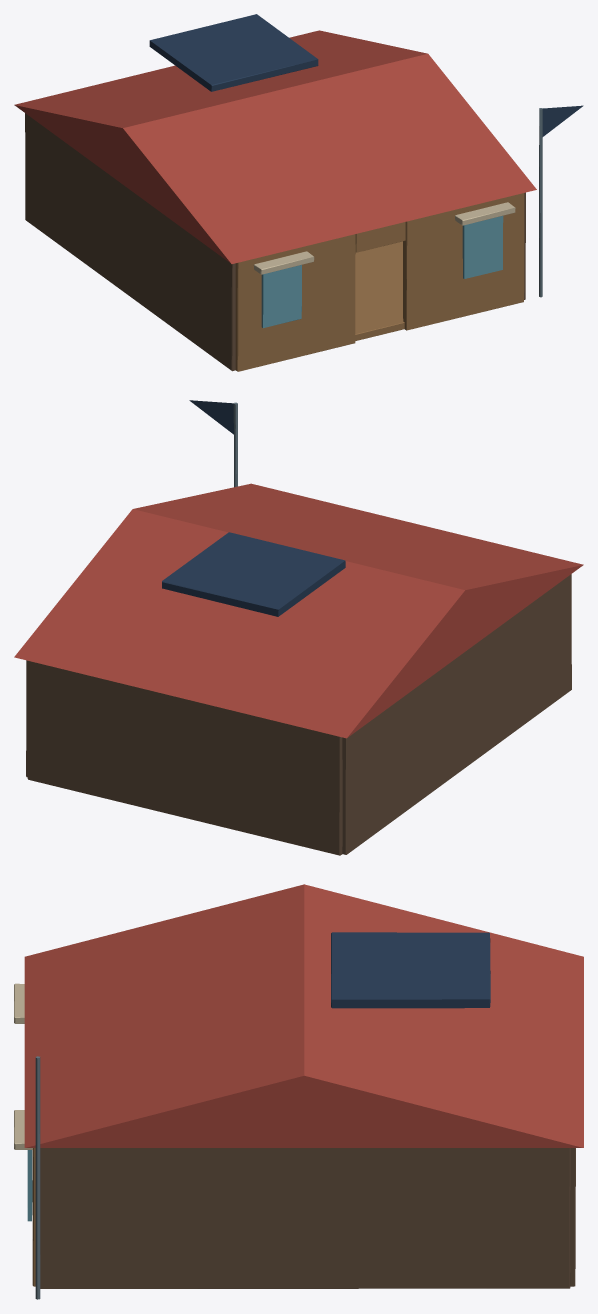
The model's file is harbor-naval-quarters.lod1.glb.
The picture shows the model from 3 angles, top to bottom: view 1: azimuth 30°, elevation 25°; view 2: azimuth 150°, elevation 25°; view 3: azimuth 270°, elevation 25°; orthographic projection. The views are drawn at different scales.
Parts seen in each view (by area): view 1: harbor-naval-quarters__roof, harbor-naval-quarters__body, harbor-naval-quarters__front-wall; view 2: harbor-naval-quarters__roof, harbor-naval-quarters__body; view 3: harbor-naval-quarters__roof, harbor-naval-quarters__body, harbor-naval-quarters__front-wall.
Boxes of the visible parts, box(x1,y1,x2,y2) form: harbor-naval-quarters__roof: box(14, 14, 536, 263); harbor-naval-quarters__body: box(25, 105, 583, 371); harbor-naval-quarters__front-wall: box(235, 193, 524, 371); harbor-naval-quarters__roof: box(14, 483, 583, 738); harbor-naval-quarters__body: box(26, 400, 571, 855); harbor-naval-quarters__roof: box(24, 884, 583, 1147); harbor-naval-quarters__body: box(14, 983, 575, 1299); harbor-naval-quarters__front-wall: box(32, 1148, 35, 1286).
Size of the model in its own units: 9.95 by 5 by 10.7.
